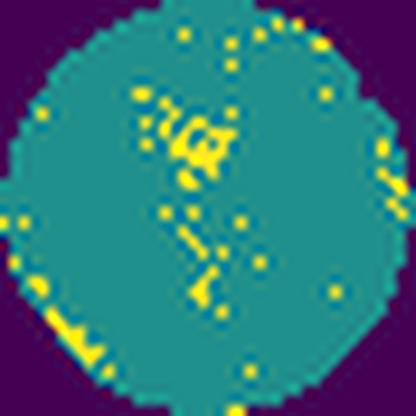Loc: (152, 93, 240, 194)
